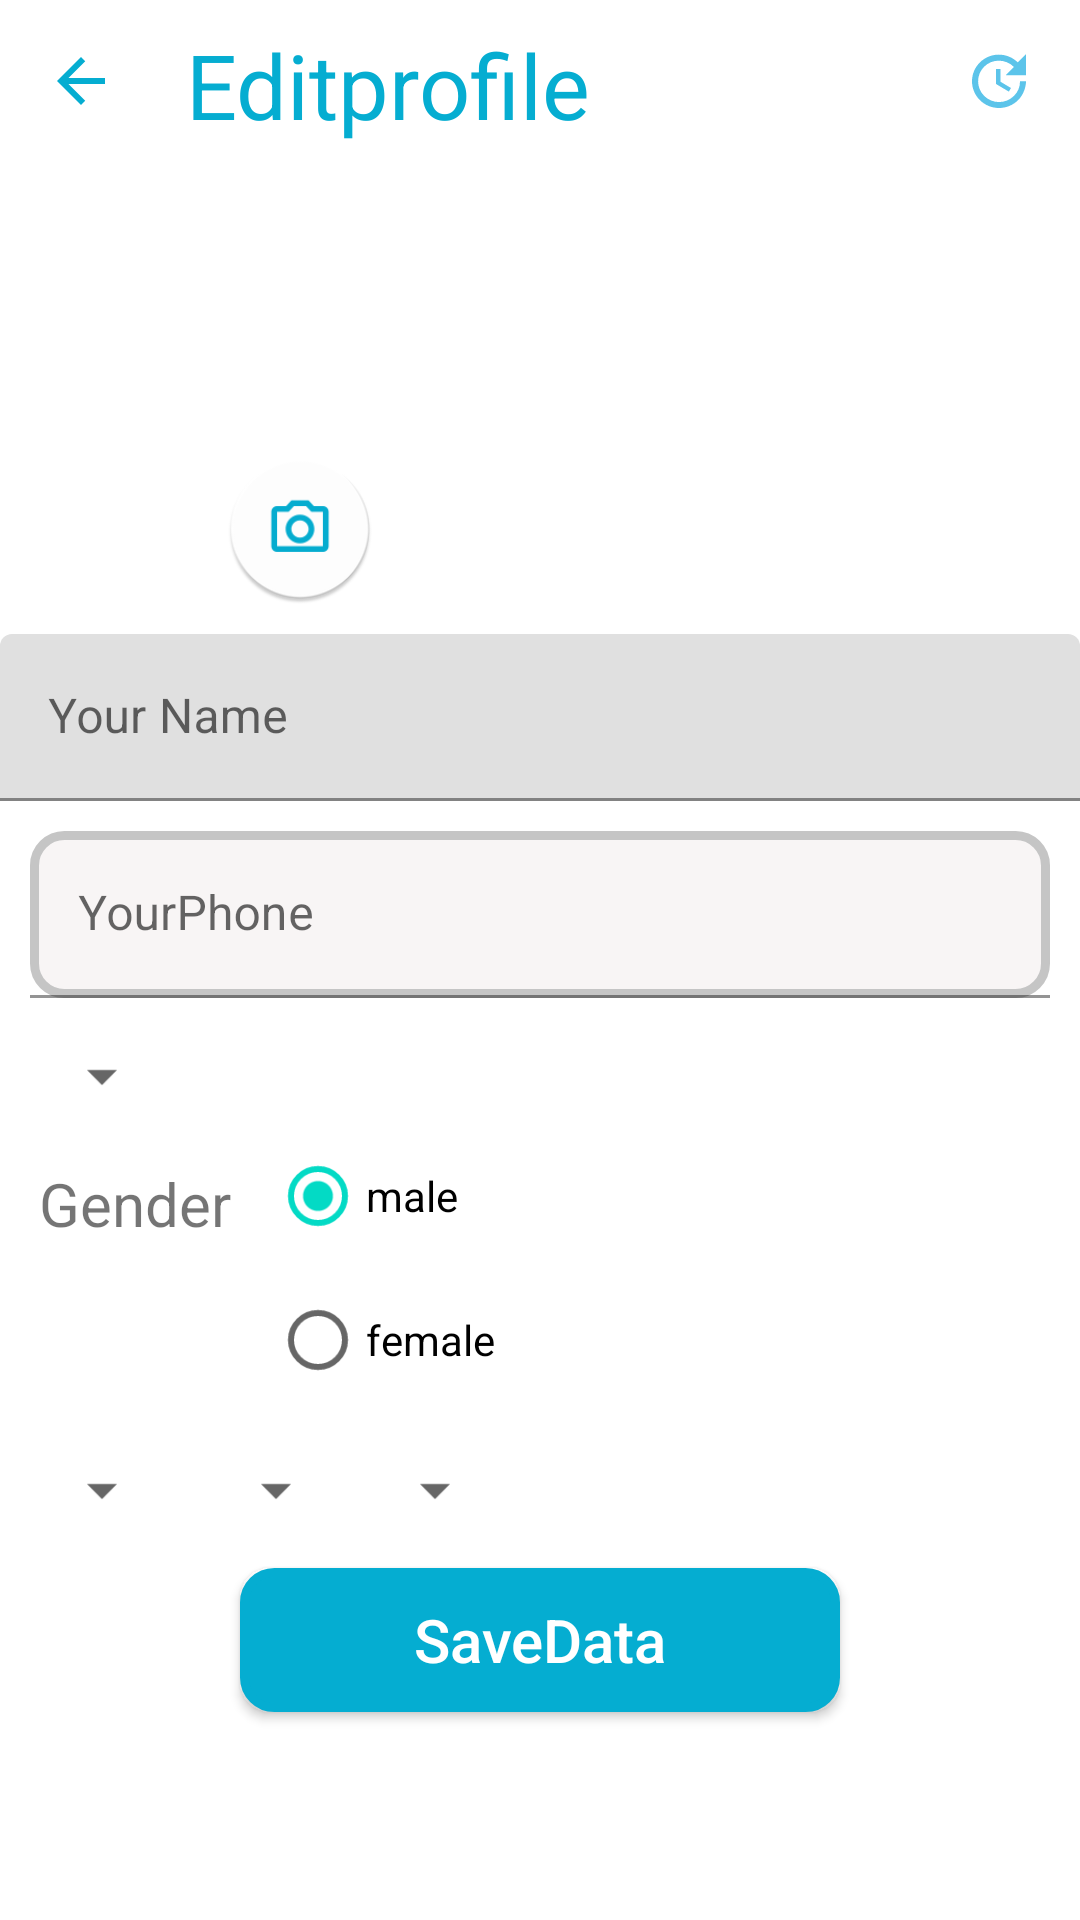

Where icons sit on this 1080*1920 app screen, as (x1, y1, x2, y2):
arrow back: (57, 57, 105, 105)
came: (233, 500, 370, 601)
update: (972, 54, 1026, 108)
